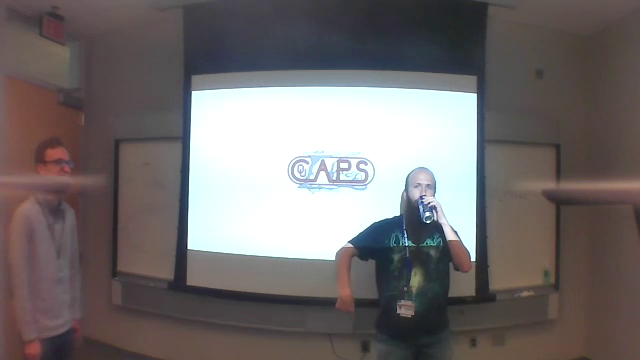down: (331, 288, 358, 328)
